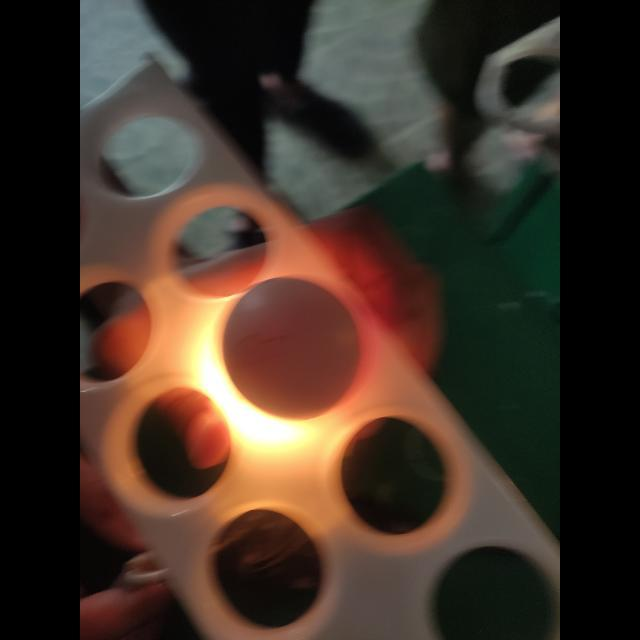Fertile: (215, 273, 368, 421)
